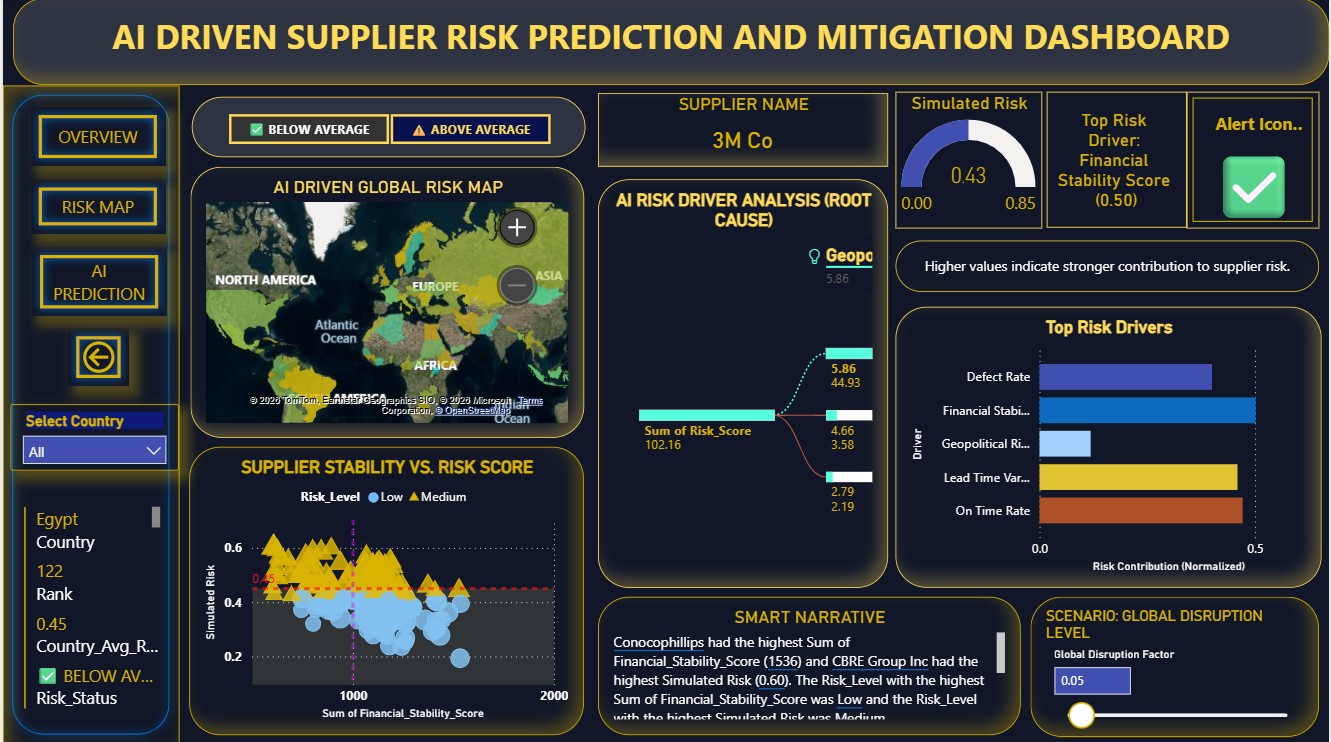

Layout of this report page (visuals, bound fields, positions):
{"tool":"powerbi","page":{"name":"Page 1","canvas":[1280,720],"ordinal":0},"visuals":[{"type":"textbox","box":[9.6,0,1270.7,83.7],"z":0},{"type":"gauge","fields":{"Y":["final_supplier_risk_data.Simulated Risk"]},"box":[861.9,90.5,141.7,132.1],"z":1000},{"type":"cardVisual","fields":{"Data":["final_supplier_risk_data.Alert Icon"]},"box":[1142.3,91,128.2,132.1],"z":2000},{"type":"filledMap","title":"AI DRIVEN GLOBAL RISK MAP","fields":{"Category":["country_risk_analysis.Country"]},"box":[181,162.9,380,261.8],"z":3000},{"type":"slicer","fields":{"Values":["country_risk_analysis.Risk_Status"]},"box":[181.7,95,380,58.3],"z":4000},{"type":"decompositionTreeVisual","title":"AI RISK DRIVER ANALYSIS (ROOT CAUSE)","fields":{"Analyze":["Sum(final_supplier_risk_data.Risk_Score)"],"ExplainBy":["final_supplier_risk_data.Geopolitical_Risk_Index","final_supplier_risk_data.OnTime_Rate","final_supplier_risk_data.Financial_Stability_Score","final_supplier_risk_data.LeadTime_Variability","final_supplier_risk_data.Defect_Rate"]},"box":[574.3,174.9,279.9,394.5],"z":5000},{"type":"scatterChart","title":"SUPPLIER STABILITY VS. RISK SCORE","fields":{"Category":["final_supplier_risk_data.Supplier_ID","final_supplier_risk_data.Supplier_Name"],"X":["Sum(final_supplier_risk_data.Financial_Stability_Score)"],"Series":["final_supplier_risk_data.Risk_Level"],"Size":["Sum(final_supplier_risk_data.Defect_Rate)"],"Y":["final_supplier_risk_data.Simulated Risk"]},"box":[179.5,433.3,380.8,278.2],"z":6000},{"type":"slicer","title":"SCENARIO: GLOBAL DISRUPTION LEVEL","fields":{"Values":["Global Disruption Factor.Global Disruption Factor"]},"box":[991.2,577.5,278.8,135],"z":7000},{"type":"shape","box":[0,84.3,170,635.7],"z":8000},{"type":"actionButton","box":[26.2,105,130,57.5],"z":9000},{"type":"actionButton","box":[26.2,175,130,52.5],"z":10000},{"type":"actionButton","box":[27.5,240,130,67.5],"z":11000},{"type":"textbox","title":"SMART NARRATIVE","box":[574.4,578.2,407.7,133.3],"z":12000},{"type":"actionButton","box":[62.5,318.8,58.8,56.2],"z":13000},{"type":"multiRowCard","fields":{"Values":["country_risk_analysis.Country","country_risk_analysis.Rank","country_risk_analysis.Country_Avg_Risk","country_risk_analysis.Risk_Status"]},"box":[16.2,486.2,141.2,207.5],"z":14000},{"type":"slicer","fields":{"Values":["country_risk_analysis.Country"]},"box":[7.5,392.5,162.5,63.8],"z":15000},{"type":"clusteredBarChart","title":"Top Risk Drivers","fields":{"Category":["Risk_Drivers.Driver"],"Y":["Global Disruption Factor.Driver Value Normalized Fixed"]},"box":[861.4,298,411.4,271.4],"z":16000},{"type":"card","fields":{"Values":["Global Disruption Factor.Top Driver Full"]},"box":[1007.4,90.5,135.1,131.5],"z":17000},{"type":"textbox","box":[861.4,234,409,49.5],"z":18000},{"type":"card","title":"SUPPLIER NAME","fields":{"Values":["Min(final_supplier_risk_data.Supplier_Name)"]},"box":[573.8,91.2,280,71.2],"z":20000}]}

Visuals, with their boxes in screenshot pixels (x1, y1, x2, y2), scaled from the page's 1280x720 canvas onto the 1331x742 screenshot:
textbox: [x1=10, y1=0, x2=1330, y2=86]
gauge - final_supplier_risk_data.Simulated Risk: [x1=896, y1=93, x2=1044, y2=229]
cardVisual - final_supplier_risk_data.Alert Icon: [x1=1188, y1=94, x2=1321, y2=230]
"AI DRIVEN GLOBAL RISK MAP" filledMap: [x1=188, y1=168, x2=583, y2=438]
slicer - country_risk_analysis.Risk_Status: [x1=189, y1=98, x2=584, y2=158]
"AI RISK DRIVER ANALYSIS (ROOT CAUSE)" decompositionTreeVisual: [x1=597, y1=180, x2=888, y2=587]
"SUPPLIER STABILITY VS. RISK SCORE" scatterChart: [x1=187, y1=447, x2=583, y2=733]
"SCENARIO: GLOBAL DISRUPTION LEVEL" slicer: [x1=1031, y1=595, x2=1321, y2=734]
shape: [x1=0, y1=87, x2=177, y2=741]
actionButton: [x1=27, y1=108, x2=162, y2=167]
actionButton: [x1=27, y1=180, x2=162, y2=234]
actionButton: [x1=29, y1=247, x2=164, y2=317]
"SMART NARRATIVE" textbox: [x1=597, y1=596, x2=1021, y2=733]
actionButton: [x1=65, y1=329, x2=126, y2=386]
multiRowCard - country_risk_analysis.Country x country_risk_analysis.Rank: [x1=17, y1=501, x2=164, y2=715]
slicer - country_risk_analysis.Country: [x1=8, y1=404, x2=177, y2=470]
"Top Risk Drivers" clusteredBarChart: [x1=896, y1=307, x2=1324, y2=587]
card - Global Disruption Factor.Top Driver Full: [x1=1048, y1=93, x2=1188, y2=229]
textbox: [x1=896, y1=241, x2=1321, y2=292]
"SUPPLIER NAME" card: [x1=597, y1=94, x2=888, y2=167]
